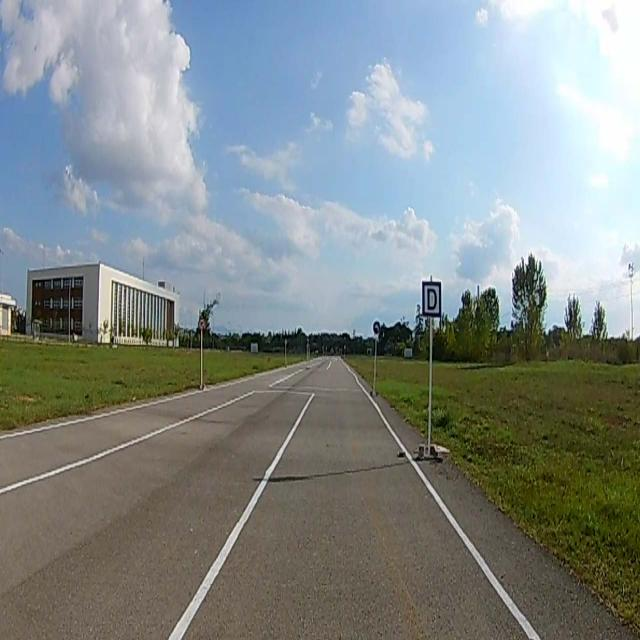durak: (422, 282, 440, 316)
